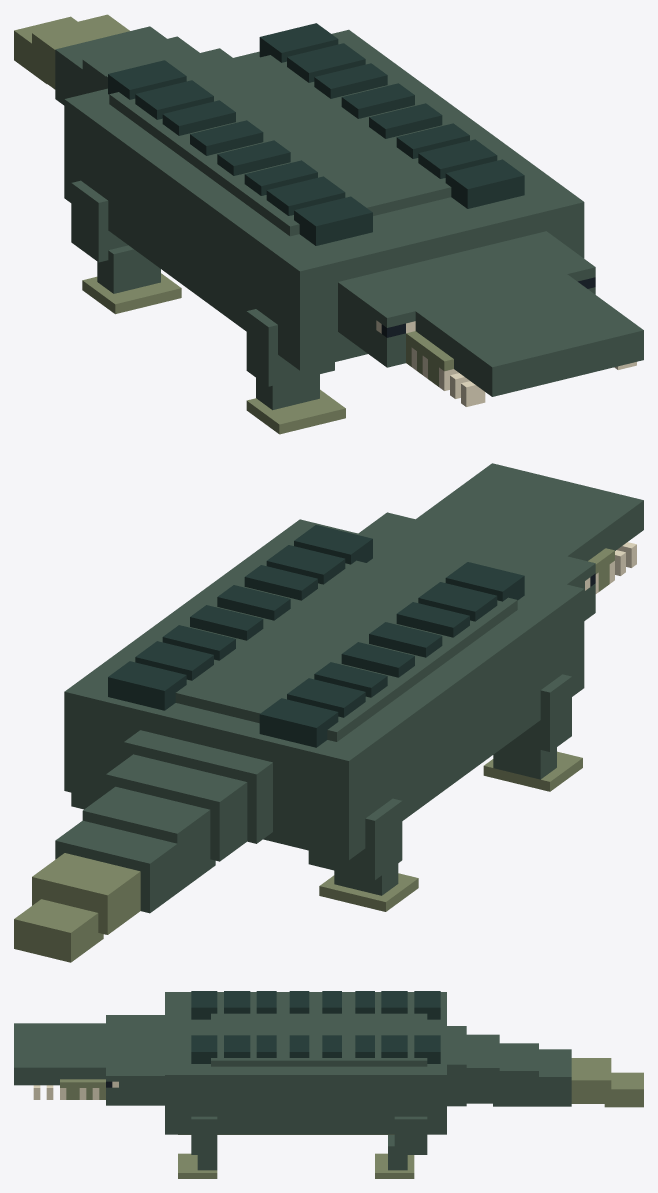
The model's file is mud_croc.glb.
3 renders of one model, top to bottom at view 1: azimuth 30°, elevation 25°; view 2: azimuth 150°, elevation 25°; view 3: azimuth 270°, elevation 25°, orthographic. The views are drawn at different scales.
Visible parts, largest first — view 1: mud_croc/thorax, mud_croc/head, mud_croc/dorsal_scutes, mud_croc/tail, mud_croc/left_hindleg, mud_croc/left_foreleg; view 2: mud_croc/thorax, mud_croc/tail, mud_croc/dorsal_scutes, mud_croc/head, mud_croc/left_hindleg, mud_croc/left_foreleg; view 3: mud_croc/thorax, mud_croc/head, mud_croc/tail, mud_croc/dorsal_scutes, mud_croc/right_hindleg, mud_croc/right_foreleg.
Part boxes in pixels (x1,y1,x2,y2): mud_croc/thorax: (64, 29, 584, 370); mud_croc/head: (338, 231, 643, 406); mud_croc/dorsal_scutes: (108, 23, 524, 245); mud_croc/tail: (14, 14, 232, 105); mud_croc/left_hindleg: (71, 180, 181, 314); mud_croc/left_foreleg: (246, 309, 345, 434); mud_croc/thorax: (64, 519, 584, 860); mud_croc/tail: (14, 730, 272, 962); mud_croc/dorsal_scutes: (108, 525, 524, 747); mud_croc/head: (358, 463, 643, 620); mud_croc/left_hindleg: (308, 798, 418, 911); mud_croc/left_foreleg: (483, 674, 582, 791); mud_croc/thorax: (165, 992, 446, 1134); mud_croc/head: (14, 1015, 164, 1105); mud_croc/tail: (447, 1026, 643, 1107); mud_croc/dorsal_scutes: (191, 991, 440, 1063); mud_croc/right_hindleg: (375, 1116, 427, 1178); mud_croc/right_foreleg: (178, 1116, 217, 1178).
Size of the model in its own units: 1 by 0.5938 by 3.
